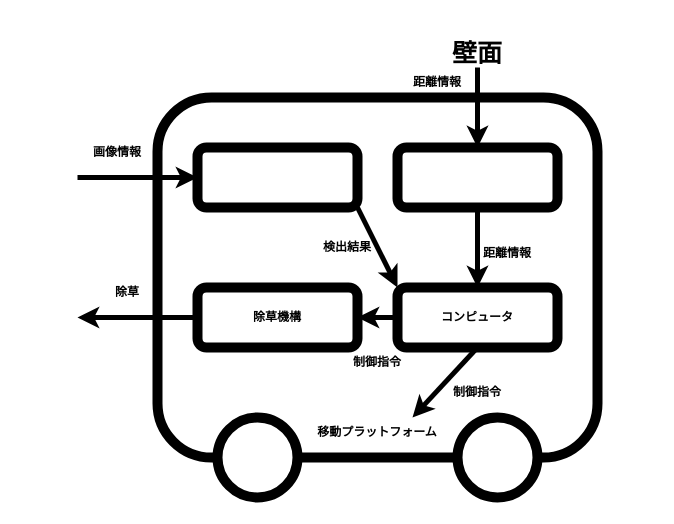
Some shapes in this 674 by 524 pixel diagram are drawn without their labels. Here are the shapes that lost their labels. From the top down, the box of each, then its label:
(192, 142, 362, 212): カメラ
(392, 142, 562, 212): 距離センサ
